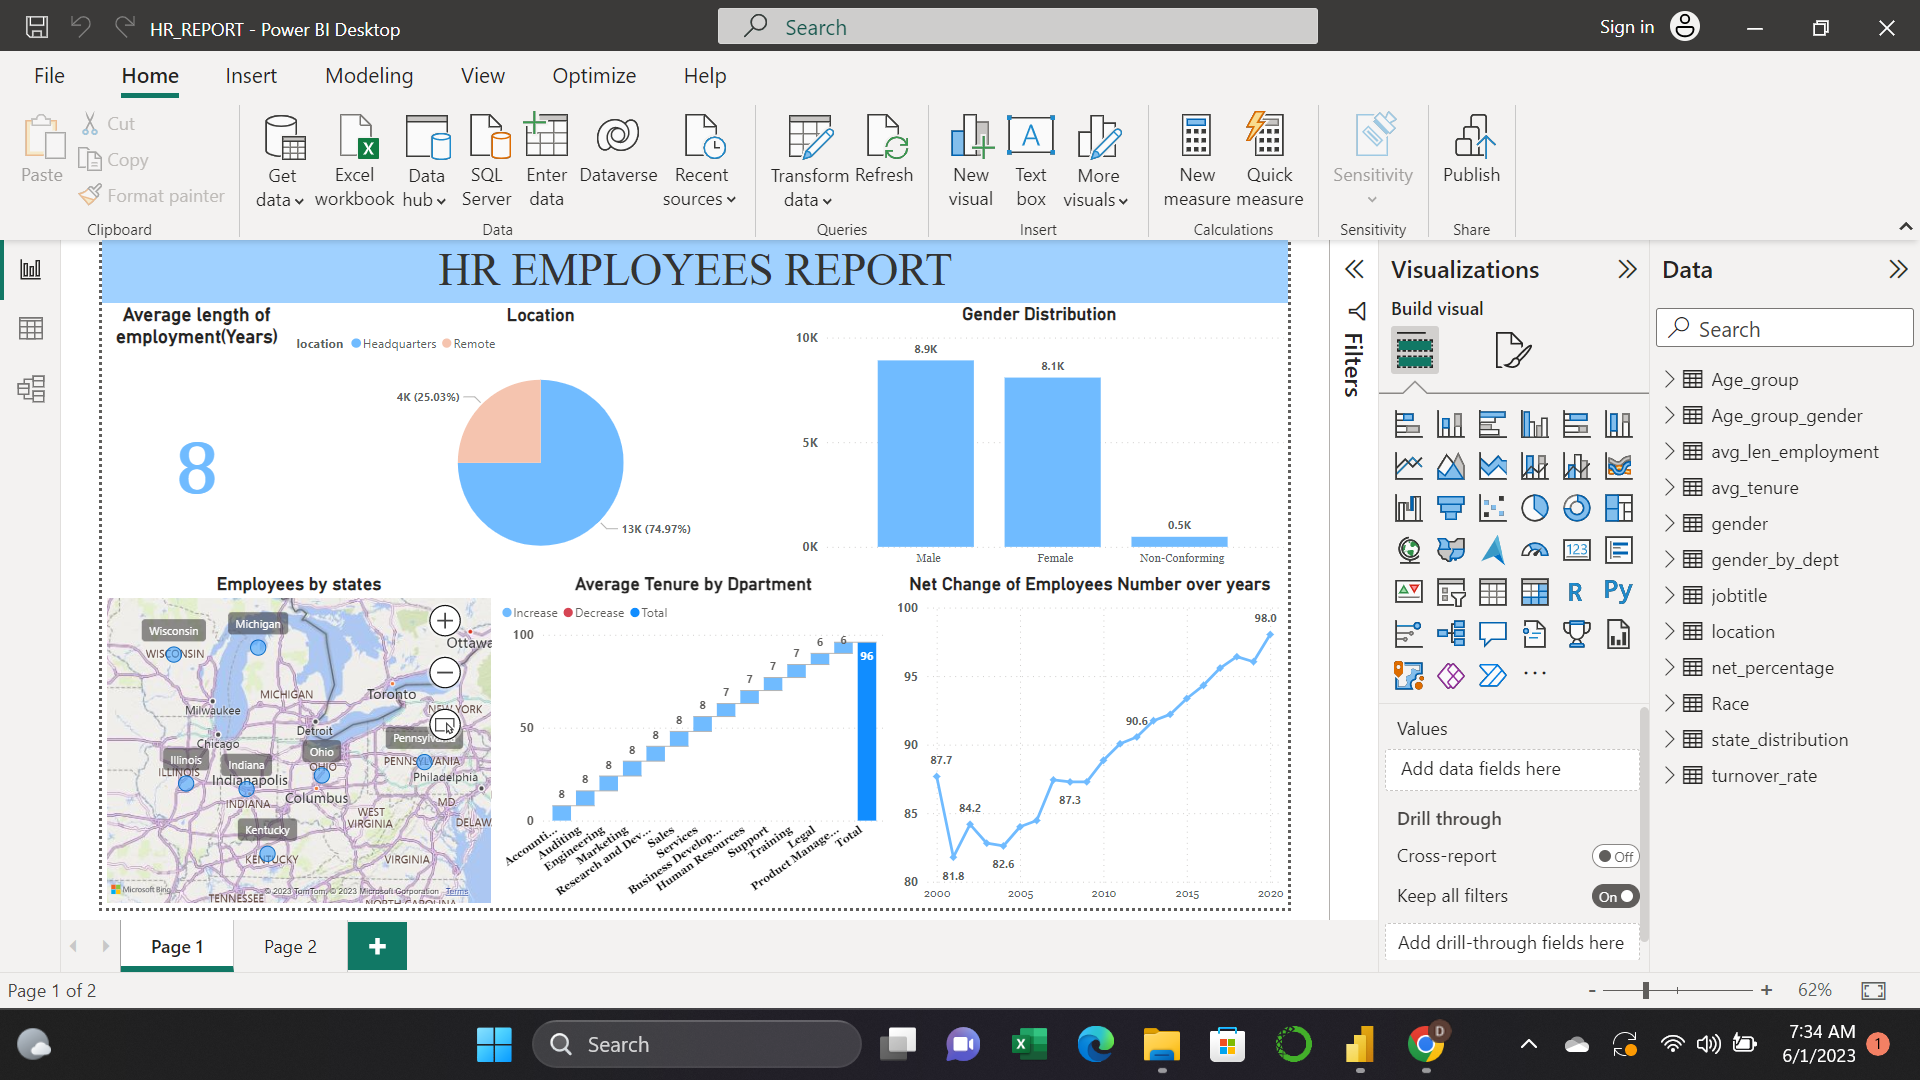

What the dashboard file says about the page in this screenshot:
{"tool":"powerbi","page":{"name":"Page 1","canvas":[1280,720],"ordinal":0},"visuals":[{"type":"textbox","box":[0,0,1279.8,68],"z":0},{"type":"card","title":"Average length of employment(Years)","fields":{"Values":["Sum(avg_len_employment.avg_len_employment)"]},"box":[0,68,204.1,291],"z":1},{"type":"columnChart","title":"Gender Distribution","fields":{"Category":["gender.gender"],"Y":["Sum(gender.count)"]},"box":[742.7,68,536.7,291],"z":2},{"type":"pieChart","title":"Location","fields":{"Category":["location.location"],"Y":["Sum(location.count)"]},"box":[204.1,68,538.6,291],"z":3},{"type":"lineChart","title":"Net Change of Employees Number over years","fields":{"Y":["Sum(net_percentage.net_change_percent)"],"Category":["net_percentage.year"]},"box":[850.4,359.1,429,360.9],"z":4},{"type":"map","title":"Employees by states","fields":{"Category":["state_distribution.location_state"]},"box":[0,359.1,425.2,360.9],"z":5},{"type":"waterfallChart","title":"Average Tenure by Dpartment","fields":{"Category":["avg_tenure.department"],"Y":["Sum(avg_tenure.avg_tenure)"]},"box":[425.2,359.1,425.2,360.9],"z":6}]}

Visuals, with their boxes on the page's 1280x720 design canvas (x1, y1, x2, y2). These are canvas units, not pixel positions in the 1920x1080 screenshot, which may show the page scaled, cropped or inside an application window:
textbox: 0 0 1280 68
"Average length of employment(Years)" card: 0 68 204 359
"Gender Distribution" columnChart: 743 68 1279 359
"Location" pieChart: 204 68 743 359
"Net Change of Employees Number over years" lineChart: 850 359 1279 720
"Employees by states" map: 0 359 425 720
"Average Tenure by Dpartment" waterfallChart: 425 359 850 720
